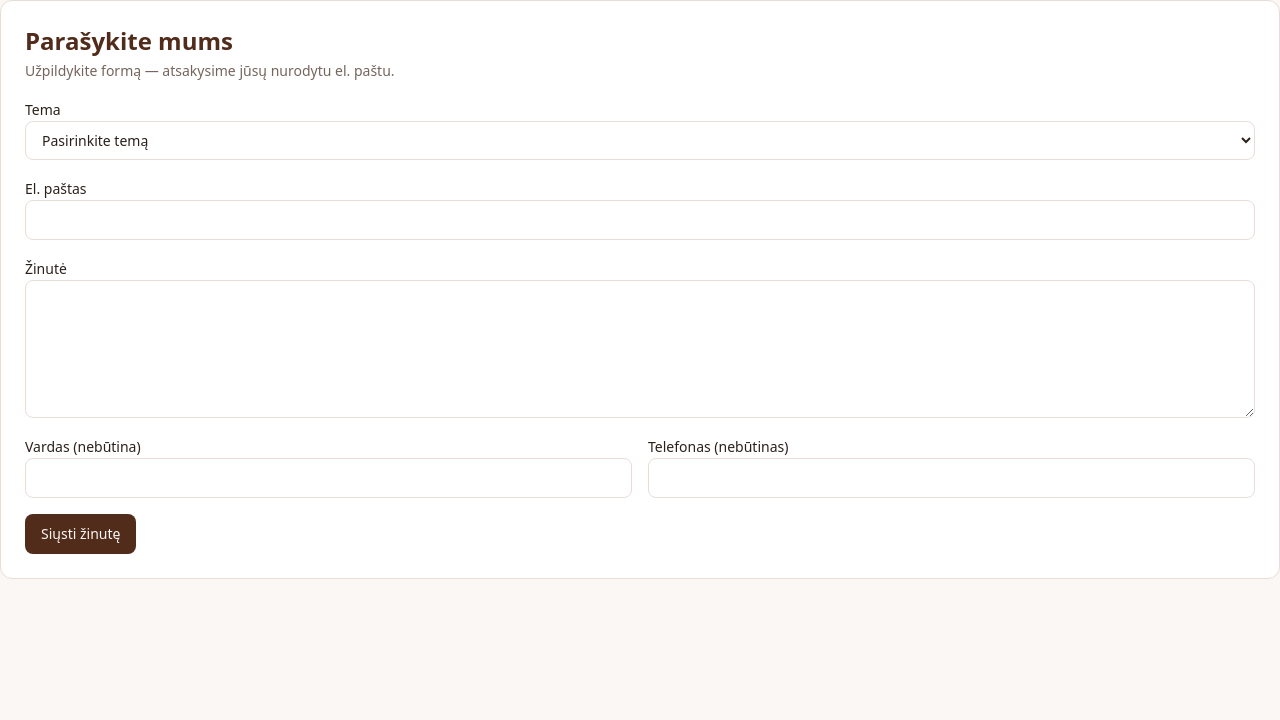
Test case: ContactForm › marks the optional fields and validates required ones before sending
Expected: the field labelled "Vardas (nebūtina)" is shown, [25,458,632,498]
Expected: the field labelled "Telefonas (nebūtinas)" is shown, [648,458,1255,498]
Click the button "Siųsti žinutę". click: (81, 534)
box: [25,514,136,554]
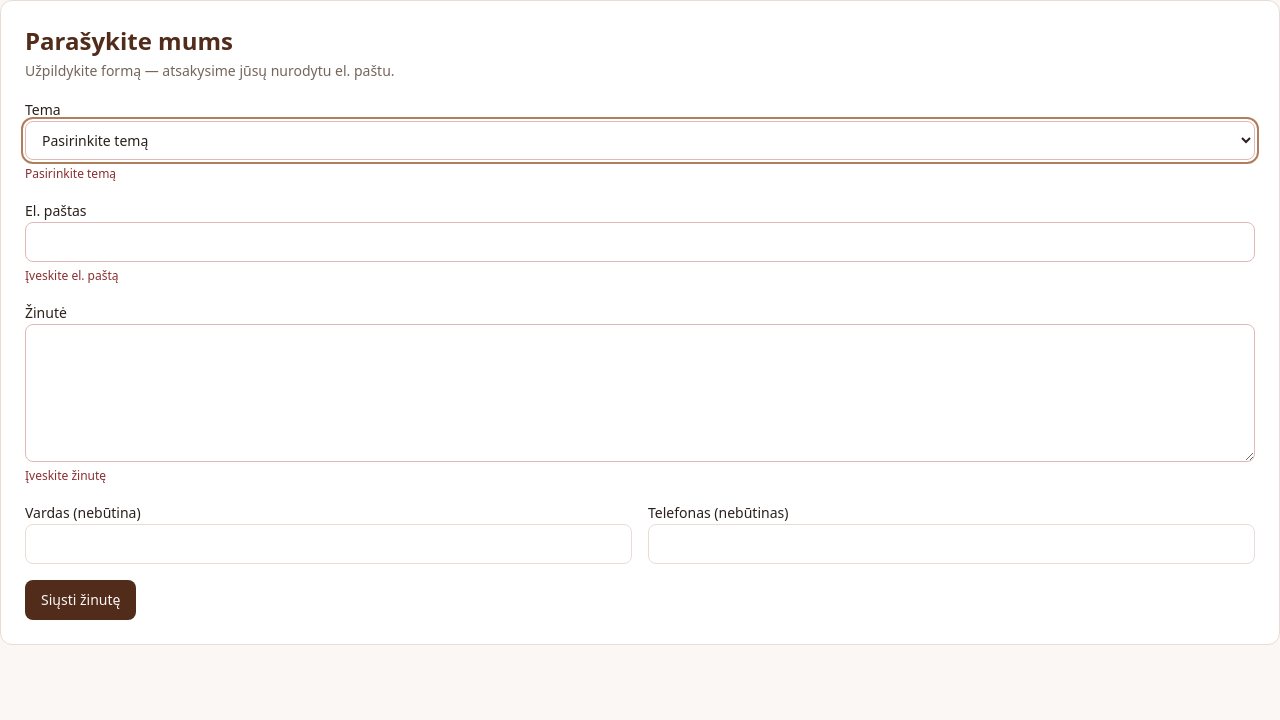
Now the text "Pasirinkite temą" is shown, box [25,165,116,182]
Now the text "Įveskite el. paštą" is shown, box [25,267,118,284]
Now the text "Įveskite žinutę" is shown, box [25,467,106,484]
